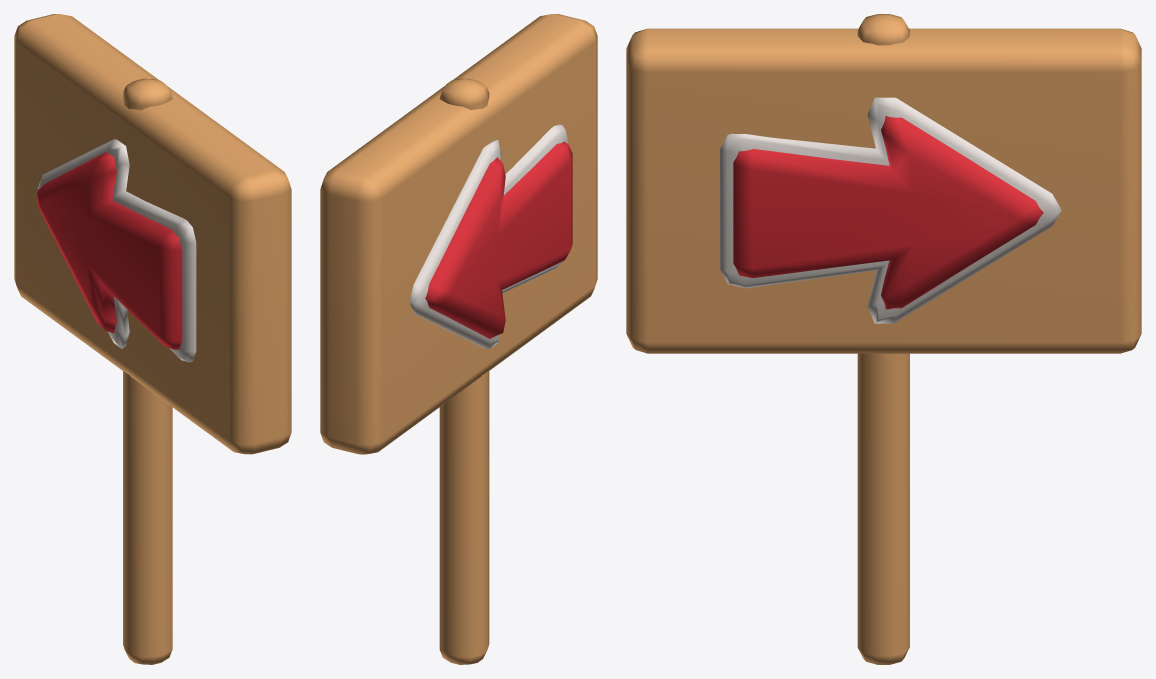
The model's file is Sign2.fbx.
3 views of the same model, side by side, from view 1: azimuth 30°, elevation 25°; view 2: azimuth 150°, elevation 25°; view 3: azimuth 270°, elevation 25° (orthographic). The views are drawn at different scales.
Visible parts, largest first — view 1: pCube2; view 2: pCube2; view 3: pCube2.
Boxes of the visible parts, bbox=[...] form: pCube2: bbox=[14, 14, 291, 664]; pCube2: bbox=[320, 14, 597, 664]; pCube2: bbox=[626, 14, 1141, 664].
Size of the model in its own units: 0.9051 by 4.98 by 3.62.
